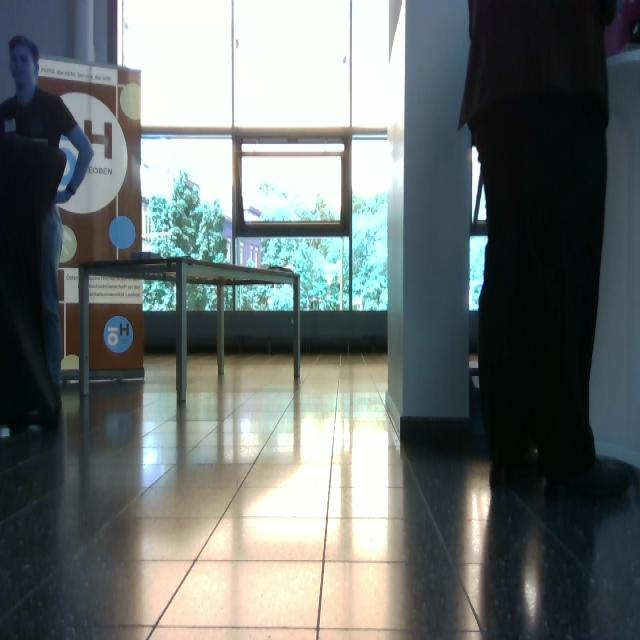door: (37, 53, 145, 385)
light bulb: (109, 216, 136, 250), (58, 146, 78, 189), (60, 224, 78, 264)
person: (458, 1, 631, 501), (1, 34, 95, 417)
pillar: (386, 1, 473, 436)
table: (77, 254, 304, 408)
tiled floor: (2, 351, 639, 639)
window: (116, 1, 394, 317)
